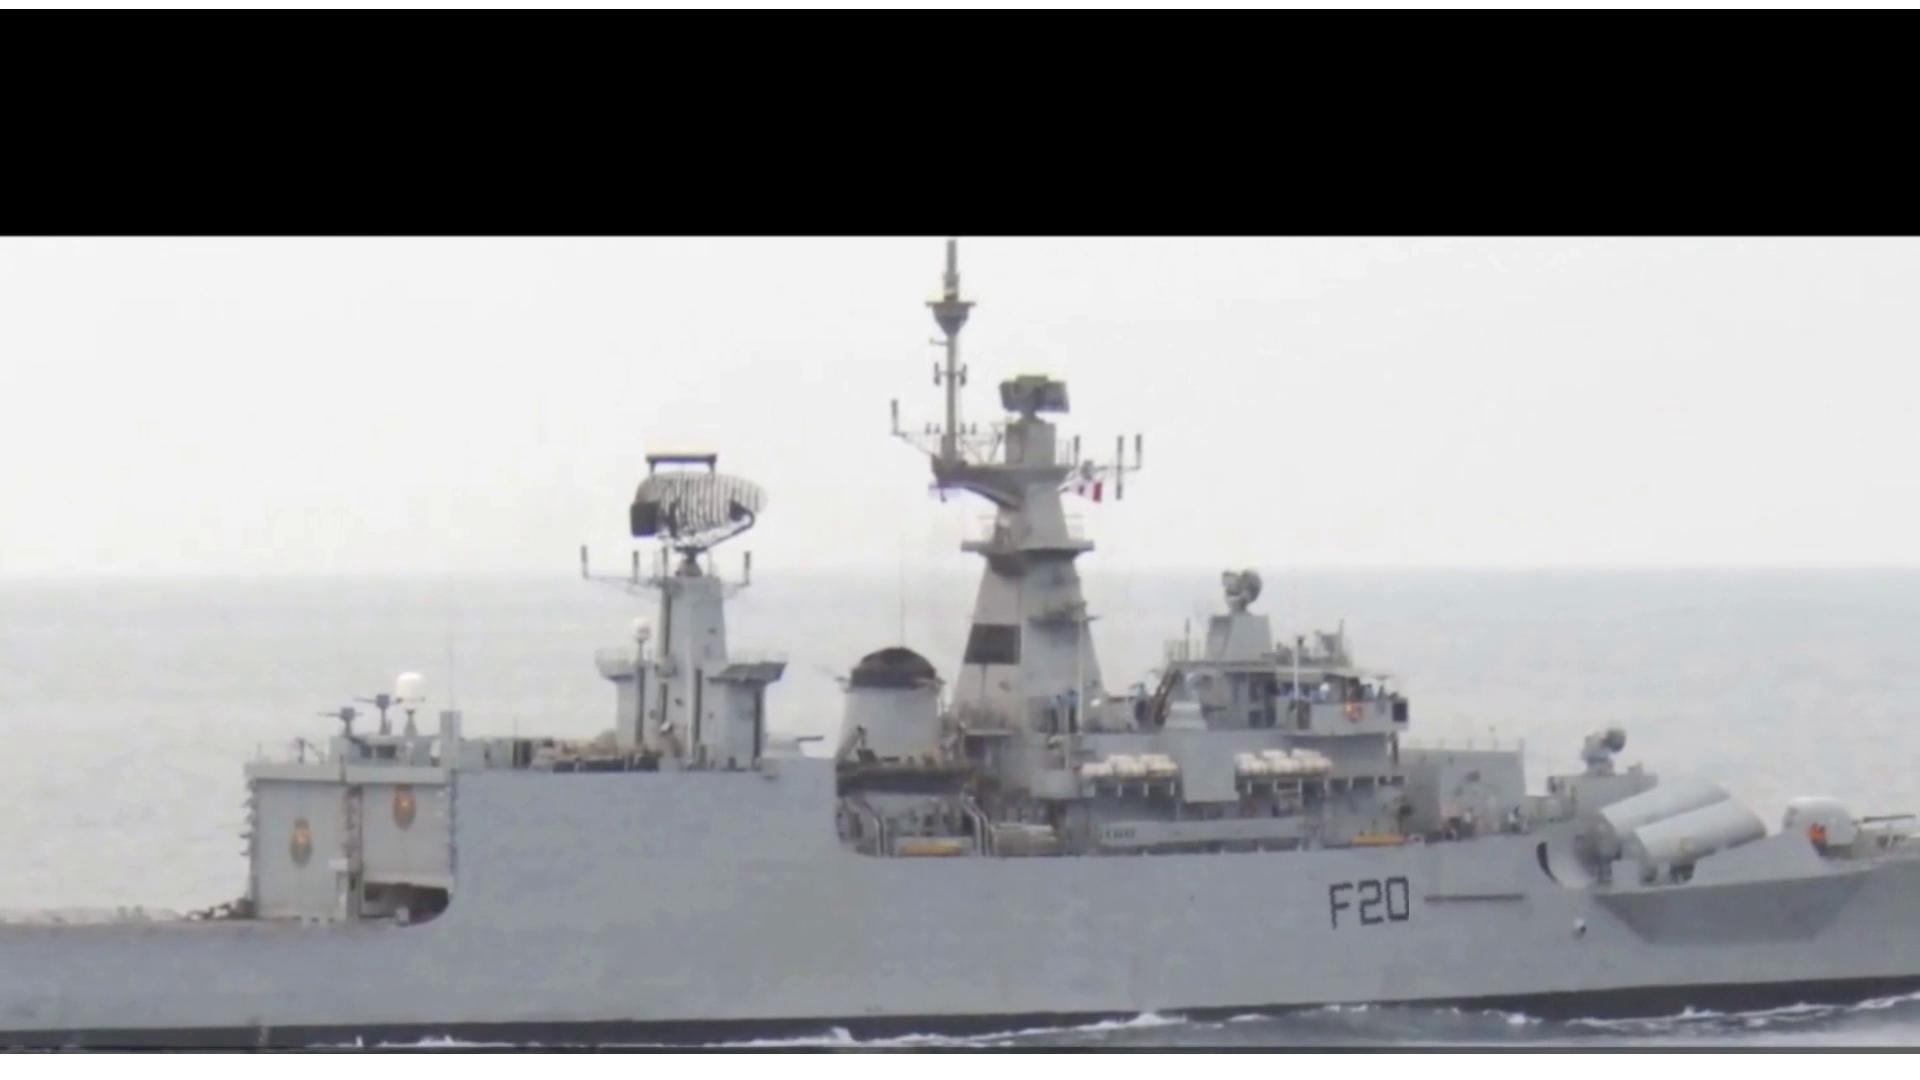OCR: (1304, 874, 1409, 944)
